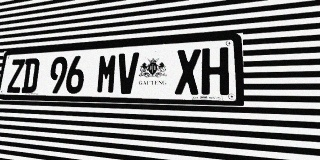6: (65, 55, 86, 94)
9: (48, 56, 68, 93)
D: (21, 58, 40, 93)
H: (201, 47, 229, 95)
M: (96, 53, 118, 94)
V: (116, 52, 139, 94)
X: (175, 49, 201, 95)
Z: (7, 59, 25, 93)
